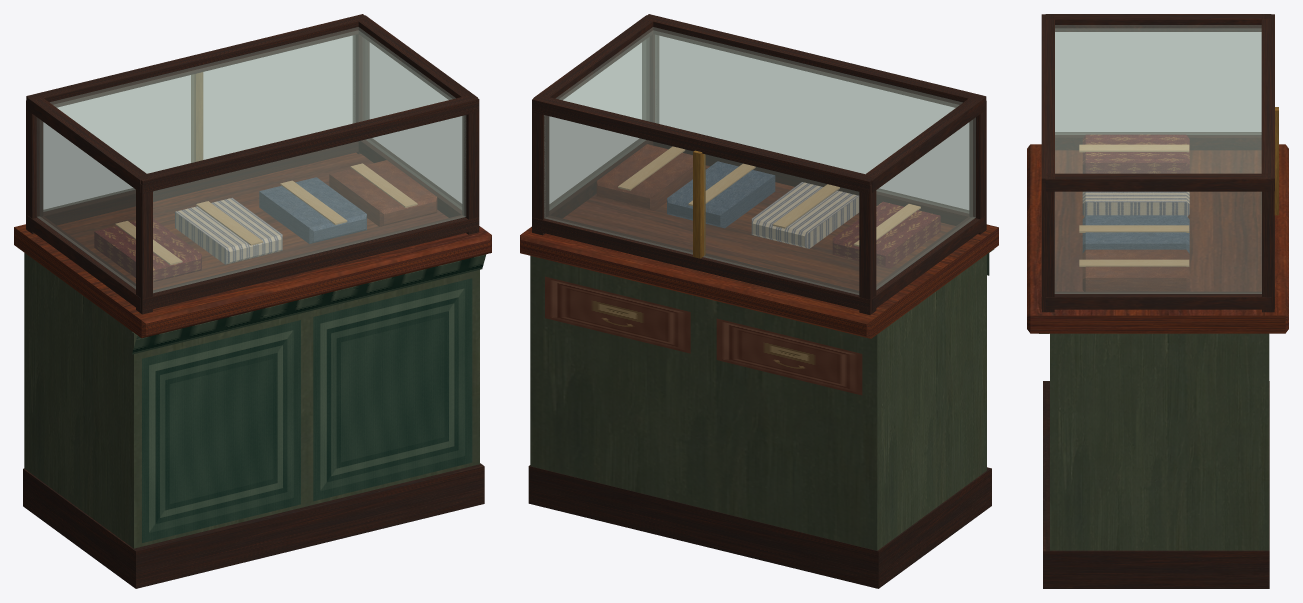
File: city1880-glass-case.gltf
3 views of the same model, side by side, from view 1: azimuth 30°, elevation 25°; view 2: azimuth 150°, elevation 25°; view 3: azimuth 270°, elevation 25° (orthographic).
Visible parts, largest first — view 1: Glazed display counter; view 2: Glazed display counter; view 3: Glazed display counter.
Part boxes in pixels (left/top/right/bottom): Glazed display counter: left=14, top=14, right=491, bottom=588; Glazed display counter: left=520, top=14, right=998, bottom=588; Glazed display counter: left=1027, top=14, right=1288, bottom=588.
Size of the model in its own units: 0.998 by 1.11 by 0.645.
3 materials, 2 textured.
